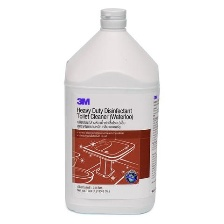cleaning_solution: (61, 3, 162, 216)
